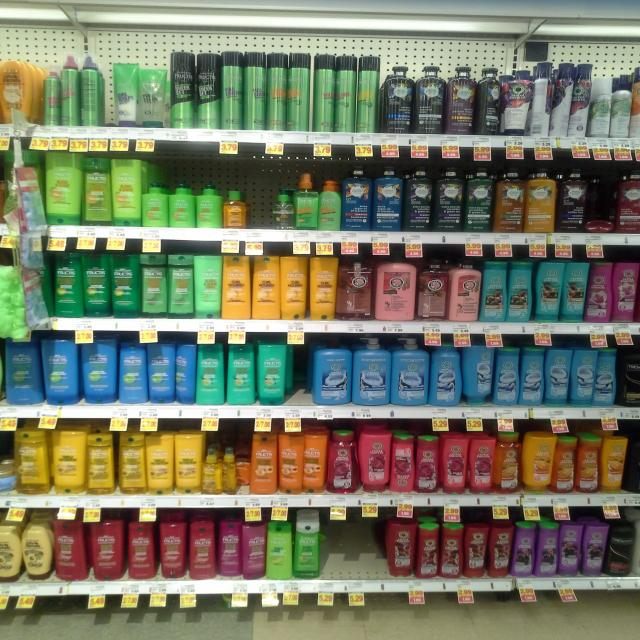void: (354, 512, 392, 606), (324, 512, 352, 609), (248, 171, 273, 253)
